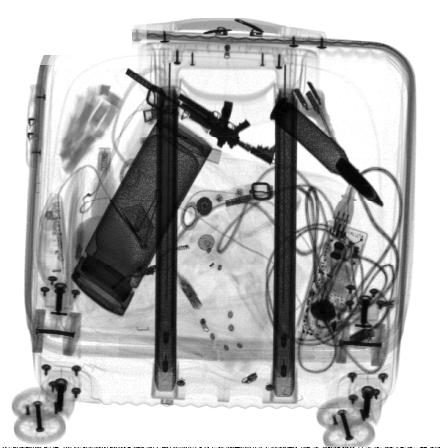Bullet: (269, 97, 385, 207)
Gun: (125, 67, 277, 165)
